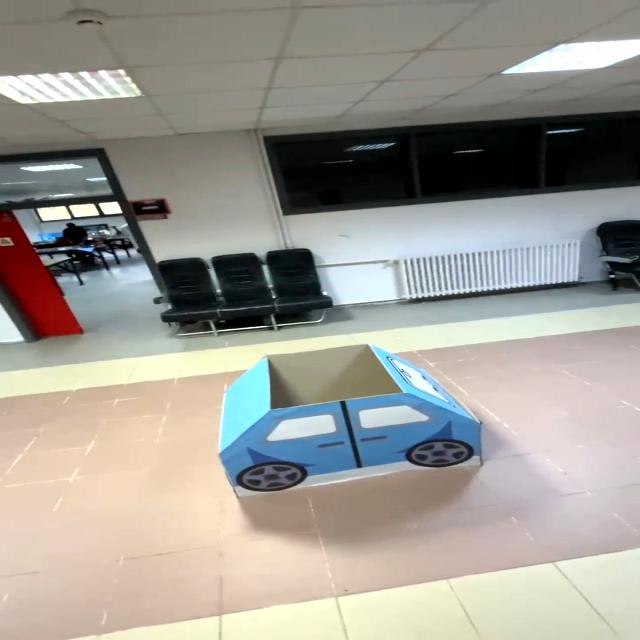blue_car: (185, 338, 499, 500)
